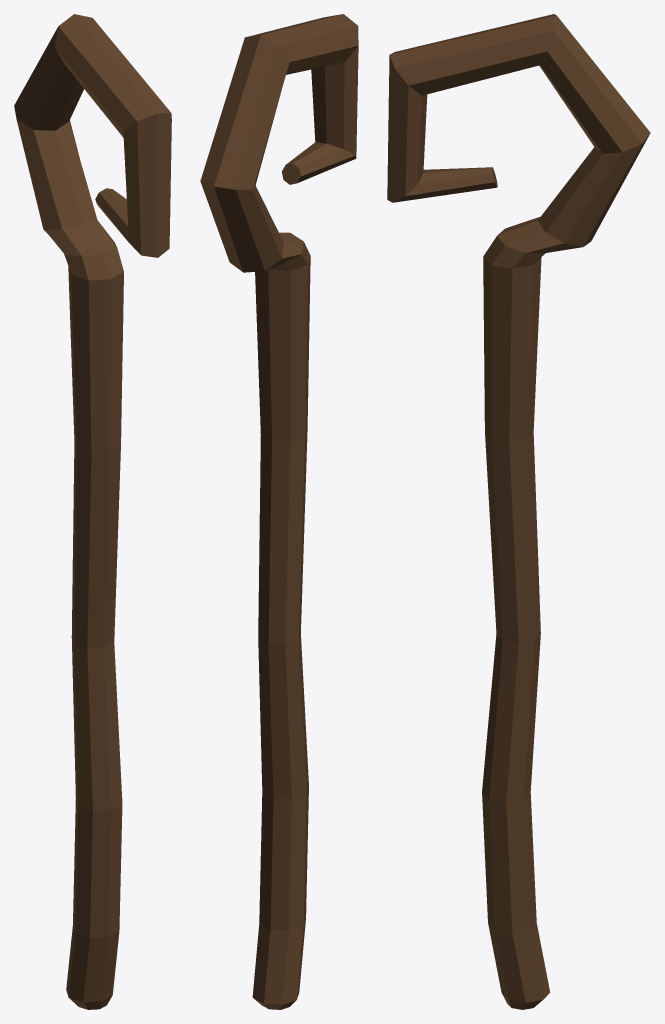
File: Staff.glb
3 renders of one model, left to right at view 1: azimuth 30°, elevation 25°; view 2: azimuth 150°, elevation 25°; view 3: azimuth 270°, elevation 25°, orthographic.
Parts seen in each view (by area): view 1: Cylinder; view 2: Cylinder; view 3: Cylinder.
Part boxes in pixels (x1,y1,x2,y2): Cylinder: (14, 14, 171, 1009); Cylinder: (200, 14, 358, 1009); Cylinder: (387, 14, 650, 1009).
Size of the model in its own units: 0.1437 by 2.68 by 0.6485.
